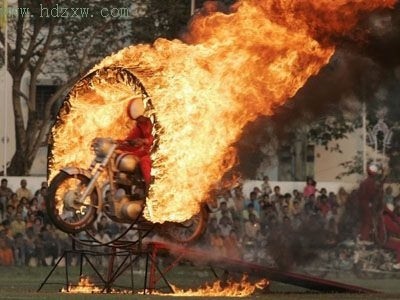fire: (37, 10, 349, 229)
